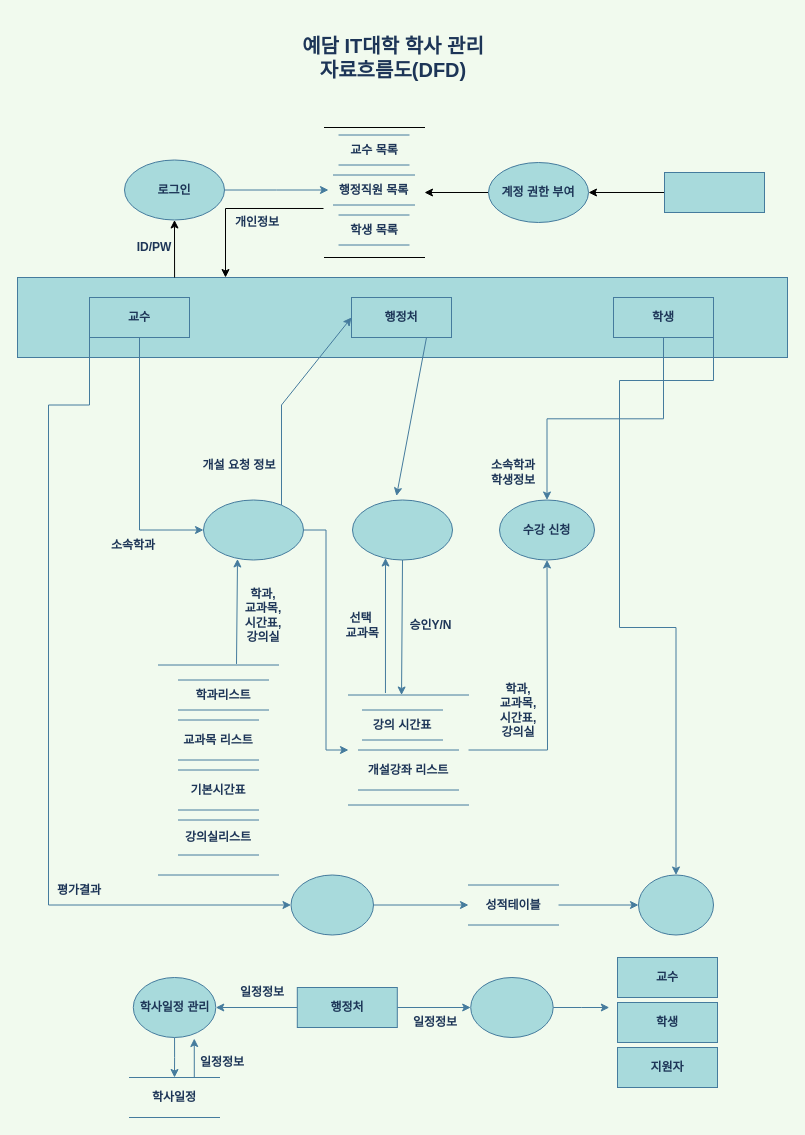
Image size: 805x1135. Some labels were removed from this diagram. The shapes that lost their labels are listed below. From the top down, each one's centre as x and y in pixels, then its label:
(x=714, y=192): 시스템 관리자
(x=253, y=529): 강좌 신청
(x=402, y=529): 강좌 신청 승인
(x=332, y=904): 교과목 평가
(x=676, y=904): 성적조회
(x=511, y=1007): 학사 알림
